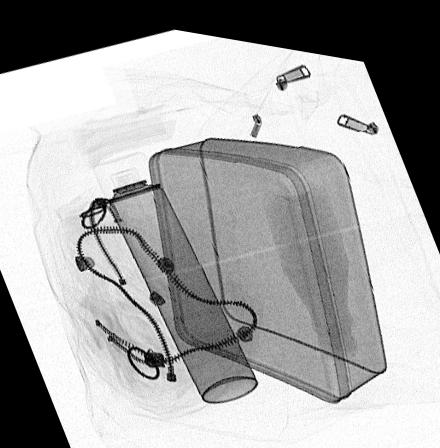Sprayer: (91, 144, 259, 398)
